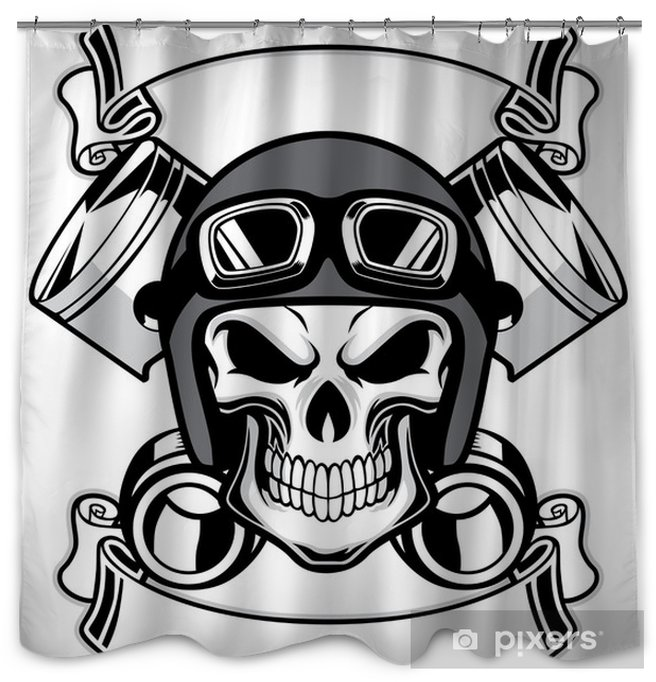with_helmet: (174, 126, 495, 476)
